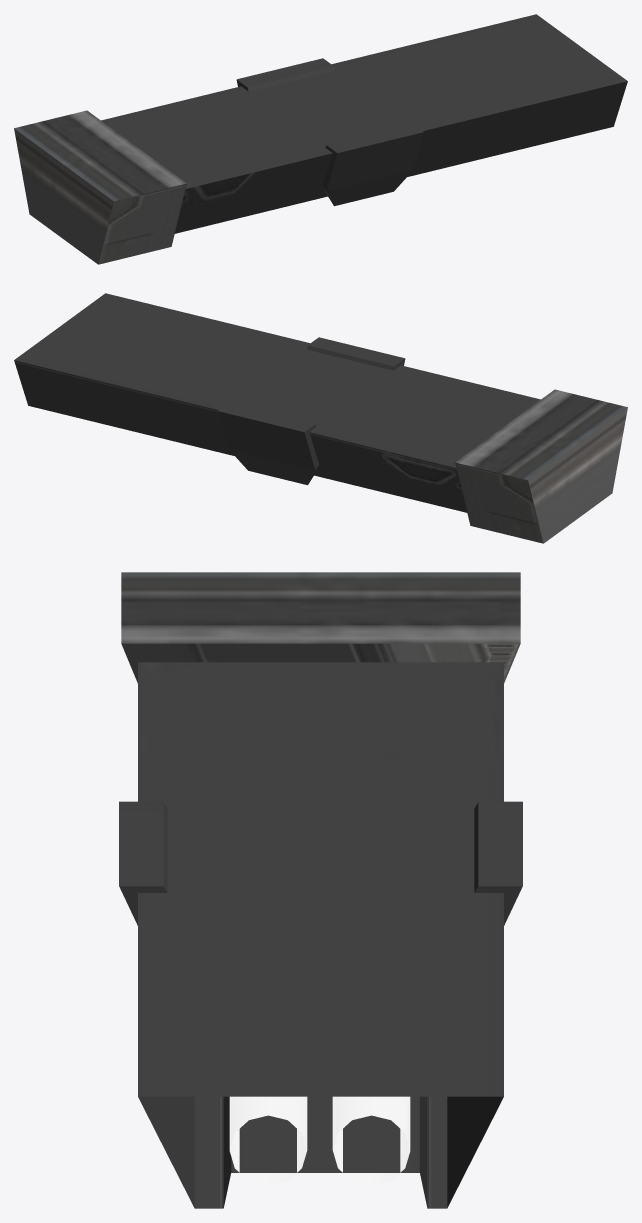
The model's file is Prop_Light_Wide.gltf.
3 views of the same model, one above another, from view 1: azimuth 30°, elevation 25°; view 2: azimuth 150°, elevation 25°; view 3: azimuth 270°, elevation 25° (orthographic). The views are drawn at different scales.
Visible parts, largest first — view 1: Prop_Light_Wide; view 2: Prop_Light_Wide; view 3: Prop_Light_Wide.
Part boxes in pixels (x1,y1,x2,y2): Prop_Light_Wide: [14, 14, 627, 264]; Prop_Light_Wide: [14, 293, 627, 543]; Prop_Light_Wide: [119, 572, 522, 1208].
Size of the model in its own units: 1.32 by 0.1819 by 0.4453.
2 materials, 1 textured.
